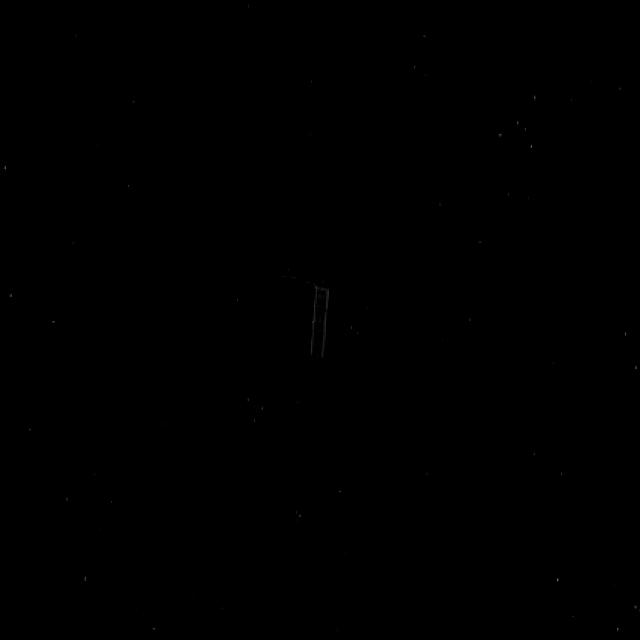medium_debris: (285, 269, 377, 356)
